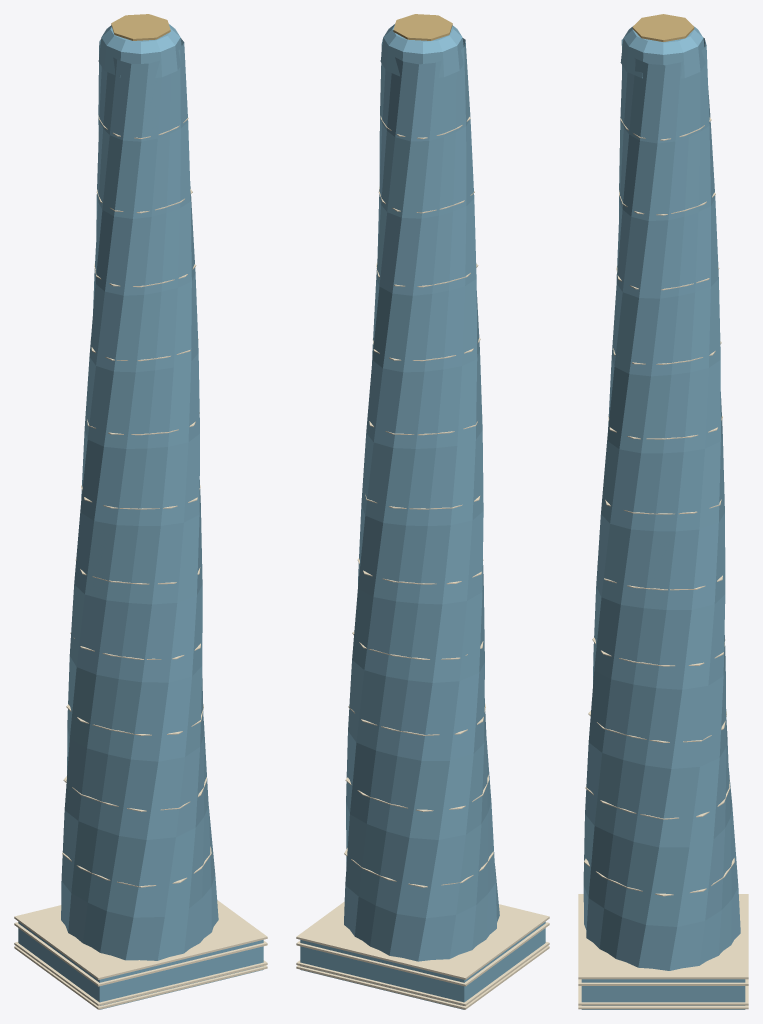
Rendered from shanghai-lod2.glb.
3 renders of one model, left to right at view 1: azimuth 30°, elevation 25°; view 2: azimuth 150°, elevation 25°; view 3: azimuth 270°, elevation 25°, orthographic.
Parts seen in each view (by area): view 1: shanghai_architecture; view 2: shanghai_architecture; view 3: shanghai_architecture.
Boxes of the visible parts, x1,y1,x2,y2 form: shanghai_architecture: (14,14,267,1009); shanghai_architecture: (296,14,549,1009); shanghai_architecture: (578,14,748,1009).
Size of the model in its own units: 21.7 by 114 by 18.7.
